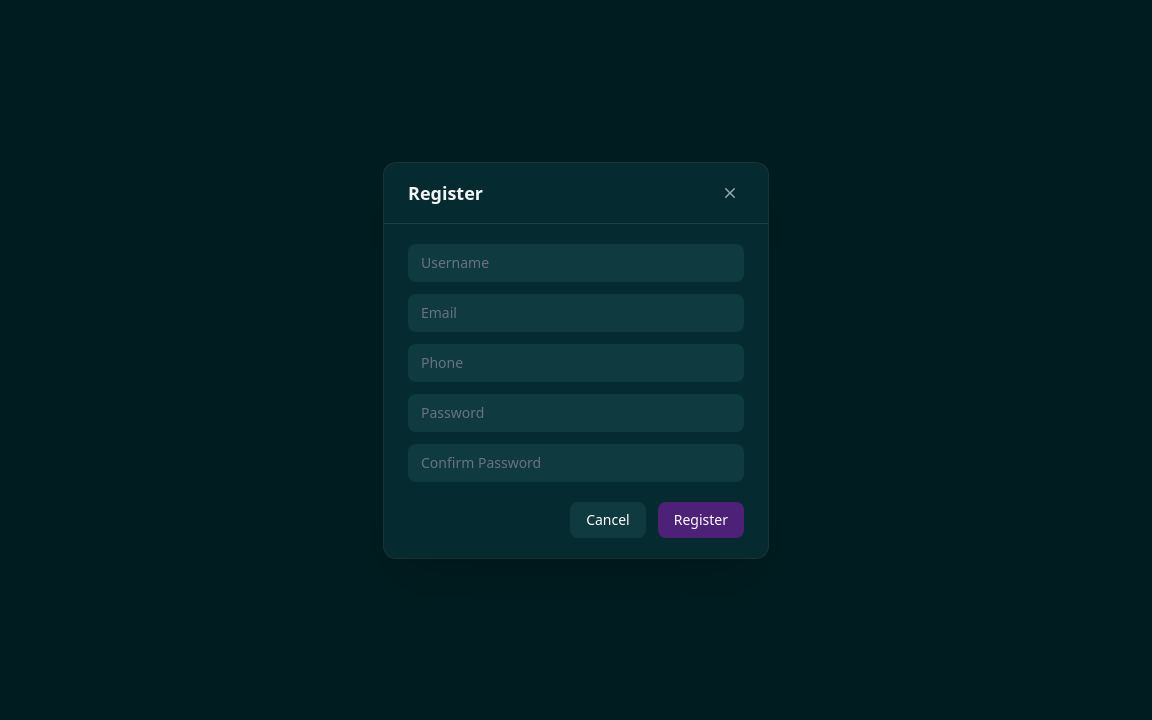
Test case: RegisterDialog › shows error when passwords do not match
In the password field with placeholder "Password": point(576, 412) x1=408 y1=394 x2=744 y2=432, type "pass1"
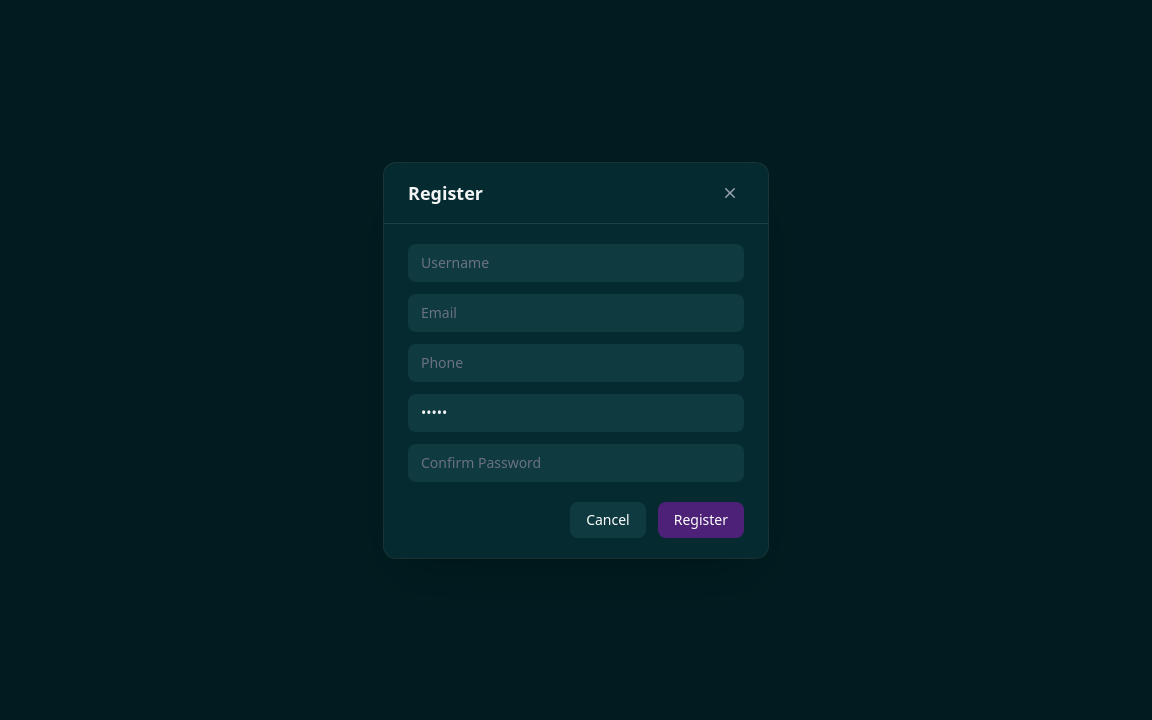
In the password field with placeholder "Confirm Password": point(576, 462) x1=408 y1=444 x2=744 y2=482, type "pass2"
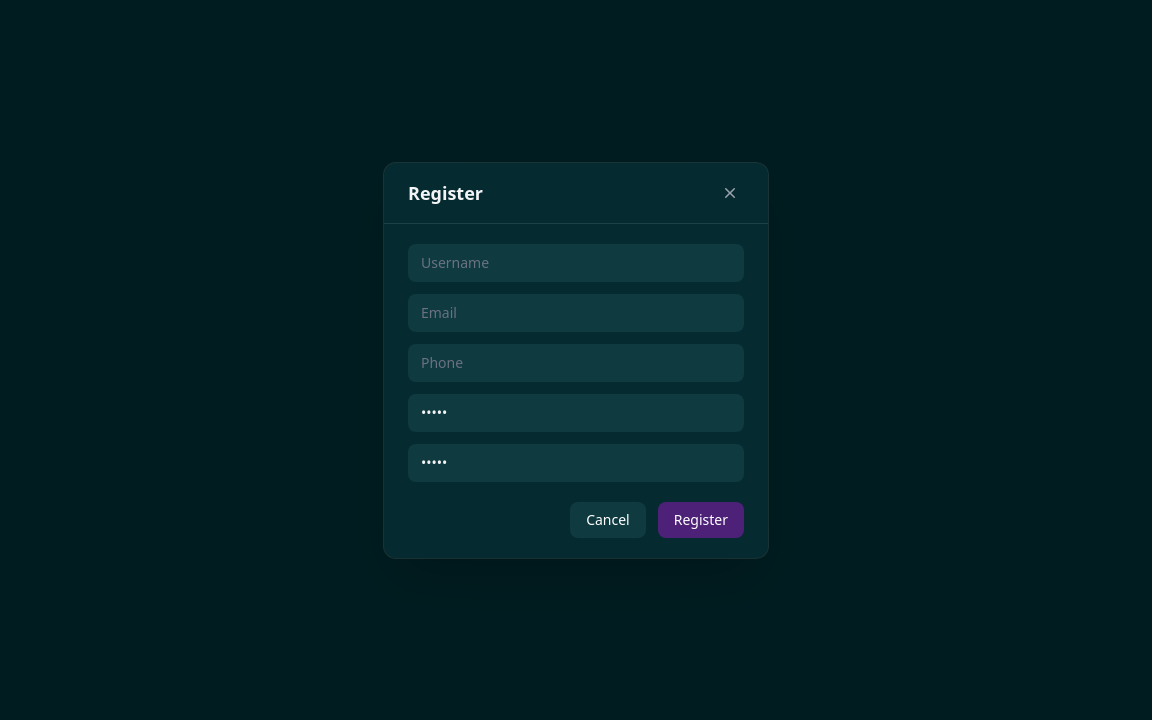
Click the button "Register": point(701, 520) x1=658 y1=502 x2=744 y2=538
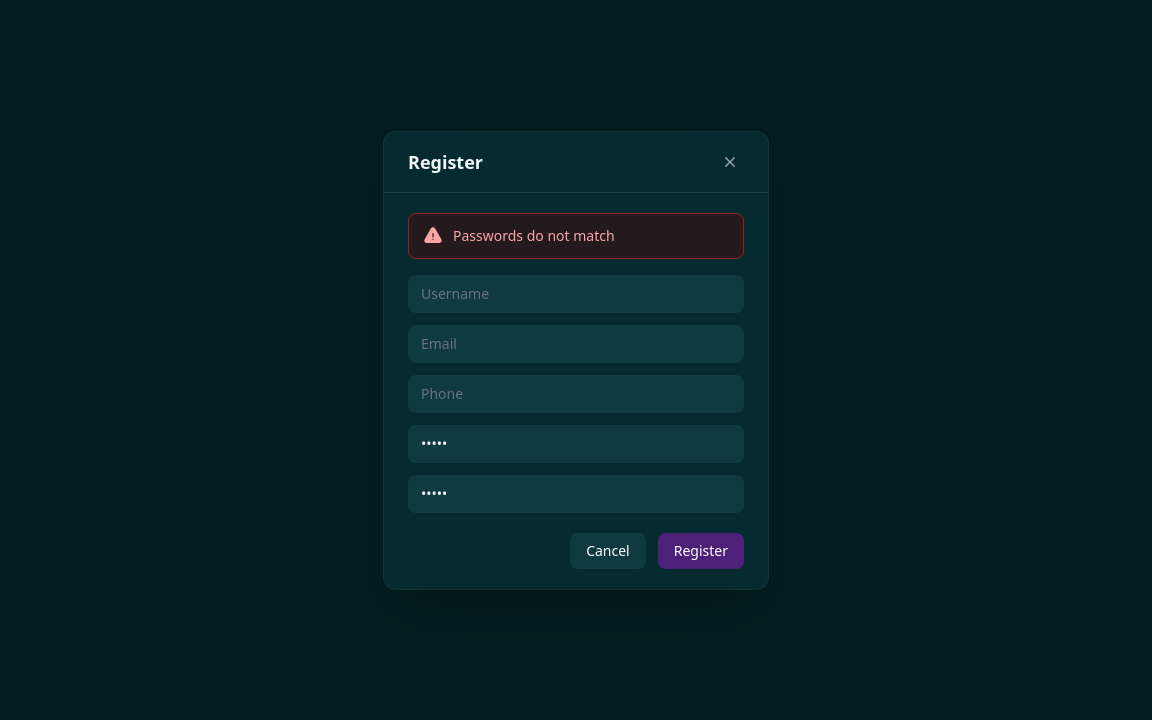
Expected: the text "Passwords do not match" is shown, x1=453 y1=226 x2=615 y2=246
